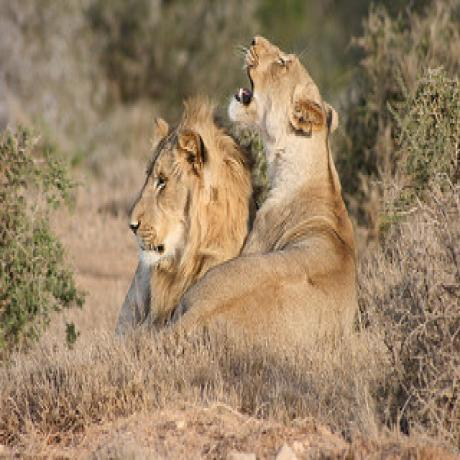Lion: (226, 32, 353, 358), (128, 99, 252, 310)
